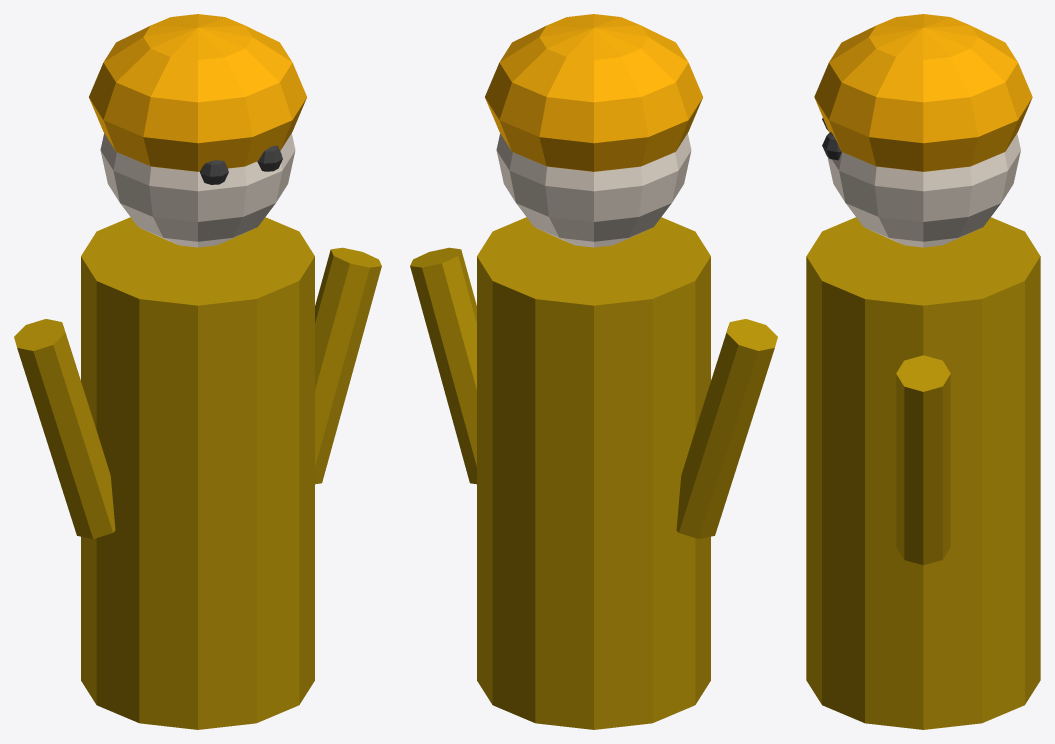
Rendered from hero_stravinsky.glb.
3 renders of one model, left to right at view 1: azimuth 30°, elevation 25°; view 2: azimuth 150°, elevation 25°; view 3: azimuth 270°, elevation 25°, orthographic.
Parts seen in each view (by area): view 1: hero_stravinsky_Body, hero_stravinsky_Wig, hero_stravinsky_Head, hero_stravinsky_Arm, hero_stravinsky_Arm.001; view 2: hero_stravinsky_Body, hero_stravinsky_Wig, hero_stravinsky_Head, hero_stravinsky_Arm, hero_stravinsky_Arm.001; view 3: hero_stravinsky_Body, hero_stravinsky_Wig, hero_stravinsky_Head, hero_stravinsky_Arm.001.
Boxes of the visible parts, <box> form: hero_stravinsky_Body: <box>81,217,314,729</box>; hero_stravinsky_Wig: <box>89,14,306,171</box>; hero_stravinsky_Head: <box>100,133,295,247</box>; hero_stravinsky_Arm: <box>14,319,115,538</box>; hero_stravinsky_Arm.001: <box>315,247,381,484</box>; hero_stravinsky_Body: <box>477,217,710,729</box>; hero_stravinsky_Wig: <box>485,14,702,171</box>; hero_stravinsky_Head: <box>496,133,691,247</box>; hero_stravinsky_Arm: <box>676,319,777,538</box>; hero_stravinsky_Arm.001: <box>410,247,476,484</box>; hero_stravinsky_Body: <box>806,217,1040,729</box>; hero_stravinsky_Wig: <box>814,14,1032,171</box>; hero_stravinsky_Head: <box>827,133,1020,247</box>; hero_stravinsky_Arm.001: <box>896,355,950,565</box>.
Bounding box in the file's own units: 1.07 × 1.85 × 0.6.
